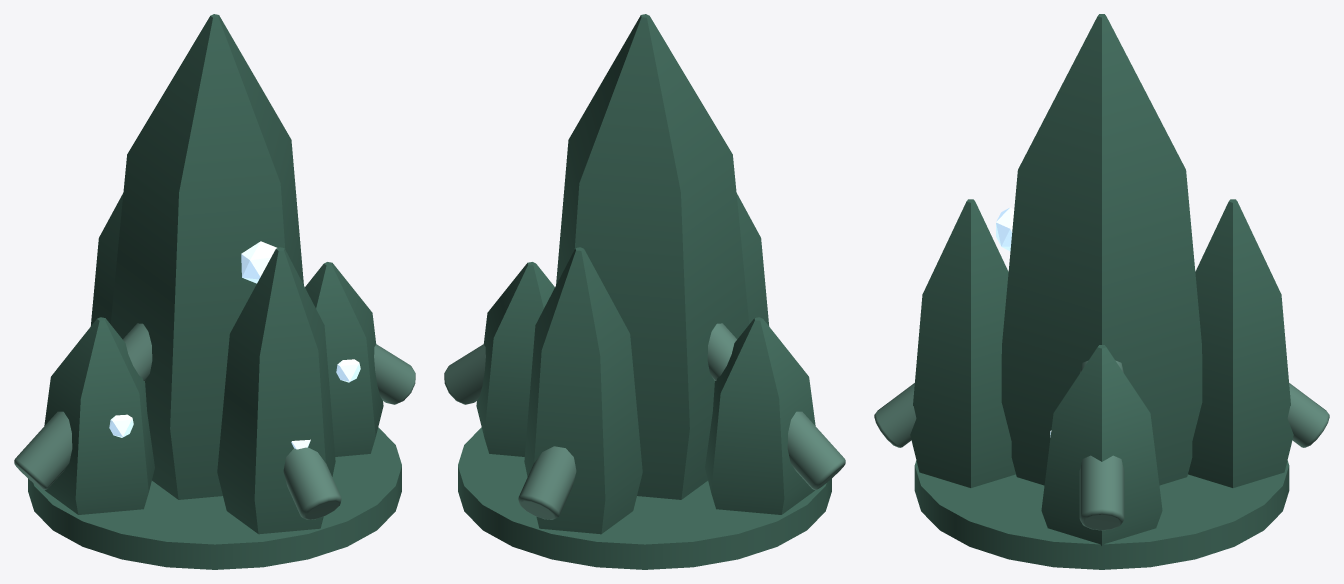
3 renders of one model, left to right at view 1: azimuth 30°, elevation 25°; view 2: azimuth 150°, elevation 25°; view 3: azimuth 270°, elevation 25°, orthographic.
Parts seen in each view (by area): view 1: Faceted crystal tower, Faceted crystal tower.004, Foundation drum, Faceted crystal tower.003, Faceted crystal tower.001, Crystal radial strut.002, Crystal radial strut.003, Faceted crystal tower.002, Crystal radial strut, Central luminous node; view 2: Faceted crystal tower, Faceted crystal tower.002, Foundation drum, Faceted crystal tower.003, Faceted crystal tower.001, Crystal radial strut.002, Crystal radial strut.001, Faceted crystal tower.004, Crystal radial strut; view 3: Faceted crystal tower, Faceted crystal tower.002, Faceted crystal tower.004, Foundation drum, Faceted crystal tower.001, Crystal radial strut, Crystal radial strut.001, Crystal radial strut.003, Central luminous node.
Part boxes in pixels (<box>): Faceted crystal tower: <box>110,14,303,499</box>; Faceted crystal tower.004: <box>217,247,335,534</box>; Foundation drum: <box>28,427,401,569</box>; Faceted crystal tower.003: <box>44,317,154,514</box>; Faceted crystal tower.001: <box>305,262,383,456</box>; Crystal radial strut.002: <box>14,323,152,489</box>; Crystal radial strut.003: <box>283,447,341,519</box>; Faceted crystal tower.002: <box>91,193,123,325</box>; Crystal radial strut: <box>374,344,415,404</box>; Central luminous node: <box>241,241,276,283</box>; Faceted crystal tower: <box>556,14,749,499</box>; Faceted crystal tower.002: <box>524,247,642,534</box>; Foundation drum: <box>458,427,831,569</box>; Faceted crystal tower.003: <box>705,317,815,514</box>; Faceted crystal tower.001: <box>476,262,554,456</box>; Crystal radial strut.002: <box>707,323,845,489</box>; Crystal radial strut.001: <box>518,446,576,519</box>; Faceted crystal tower.004: <box>736,193,768,325</box>; Crystal radial strut: <box>444,344,485,404</box>; Faceted crystal tower: <box>1001,14,1202,485</box>; Faceted crystal tower.002: <box>1188,199,1293,487</box>; Faceted crystal tower.004: <box>910,199,1015,487</box>; Foundation drum: <box>914,460,1289,569</box>; Faceted crystal tower.001: <box>1041,345,1162,545</box>; Crystal radial strut: <box>1079,360,1124,530</box>; Crystal radial strut.001: <box>1287,383,1329,447</box>; Crystal radial strut.003: <box>874,383,916,447</box>; Central luminous node: <box>996,207,1014,251</box>.
Bounding box in the file's own units: 2.43 × 2.8 × 2.43.
